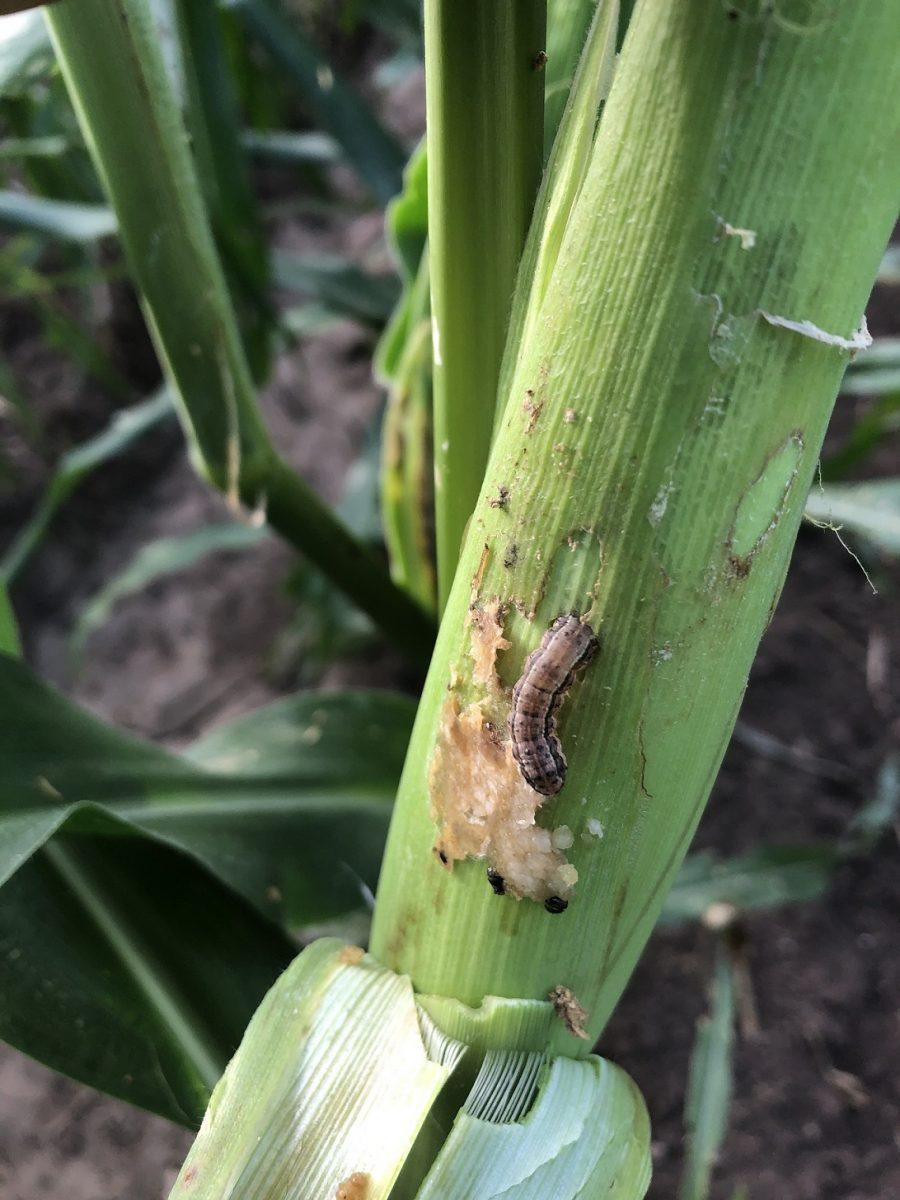Maize-fall-armyworm: (105, 187, 900, 996)
